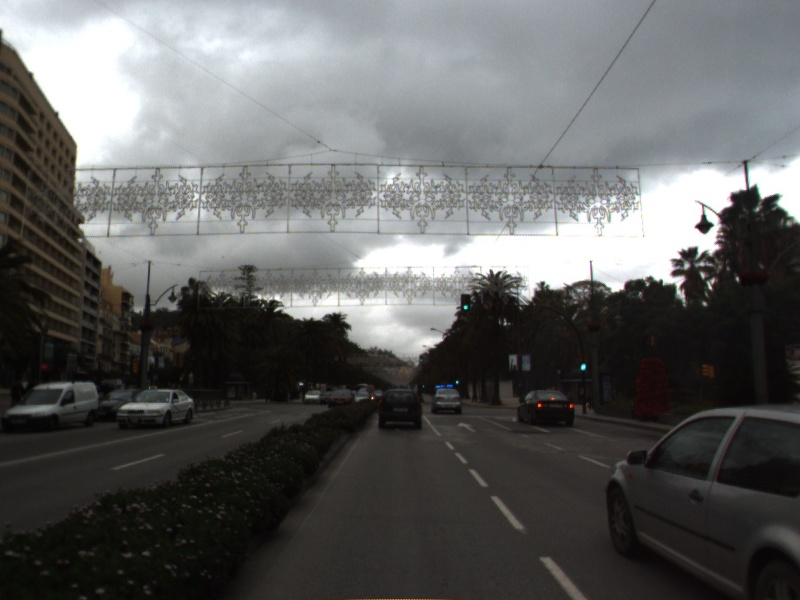STRAIGHT: (455, 420, 478, 434)
